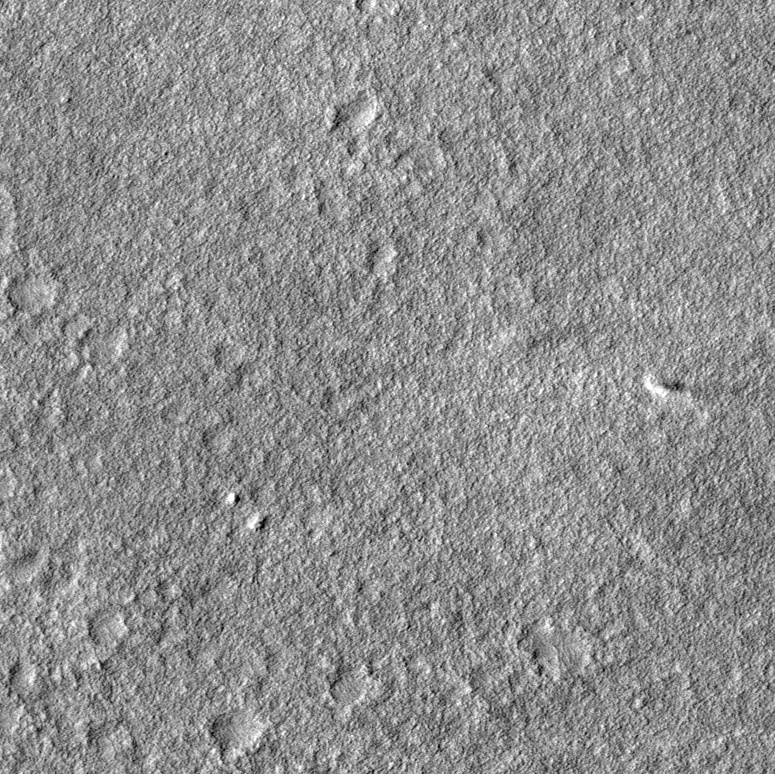dust_devil: (640, 373, 702, 405)
